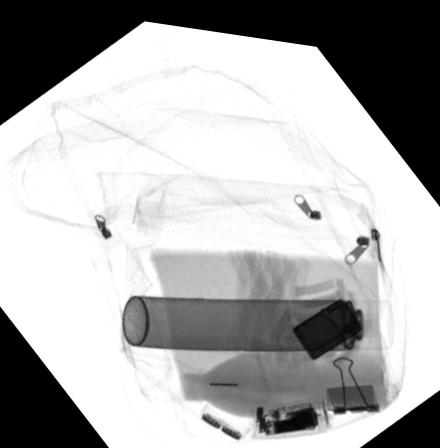Lighter: (291, 286, 363, 350)
Sprayer: (121, 287, 394, 343)
